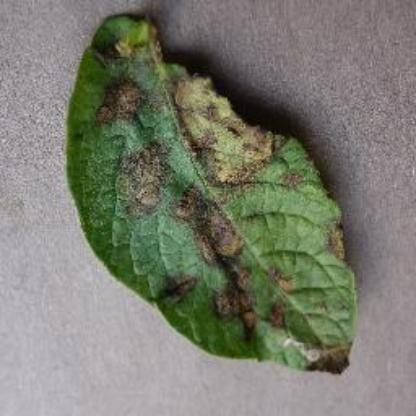Late-Blight: (54, 12, 366, 378)
